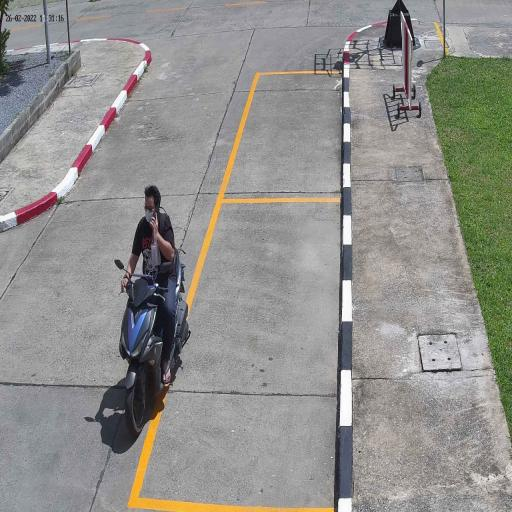motorcycle: (118, 278, 190, 440)
